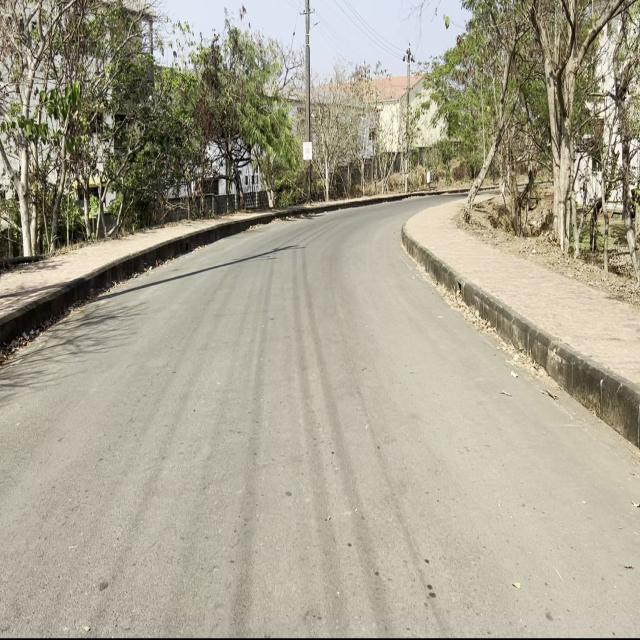Road: (4, 203, 638, 635)
